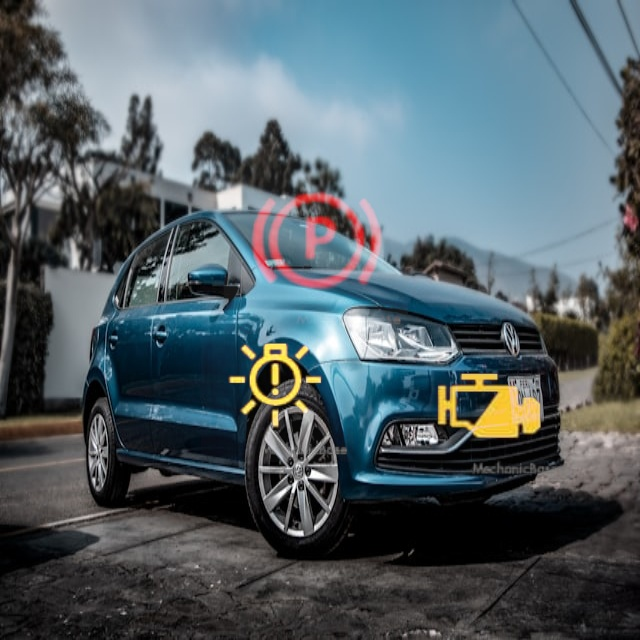symbol: (224, 150, 408, 334), (201, 310, 353, 462), (414, 332, 563, 481)
